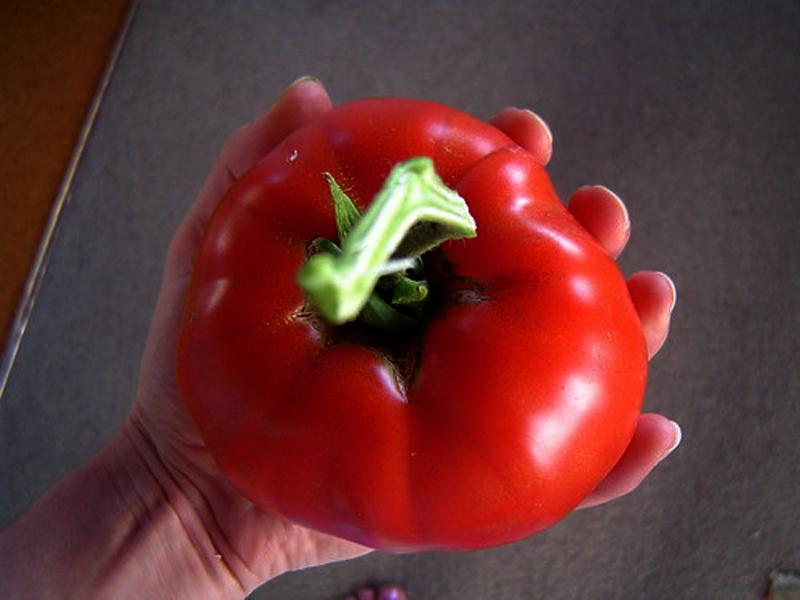Tomato: (178, 96, 646, 550)
